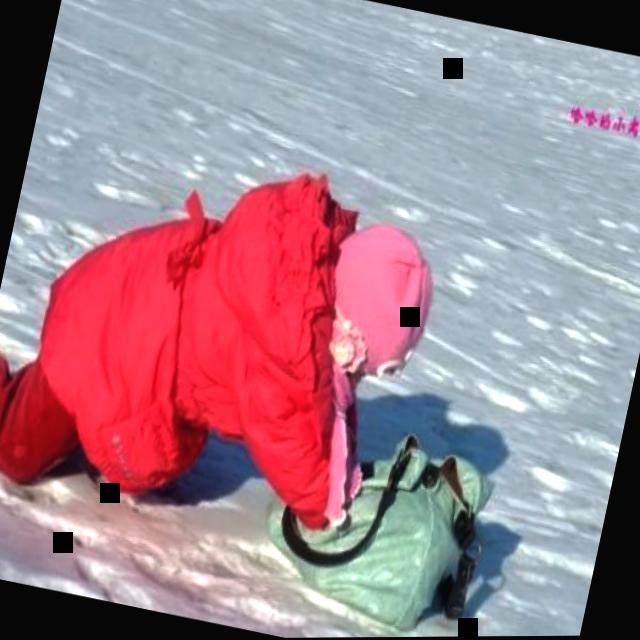Fall-Detected: (0, 83, 474, 581)
